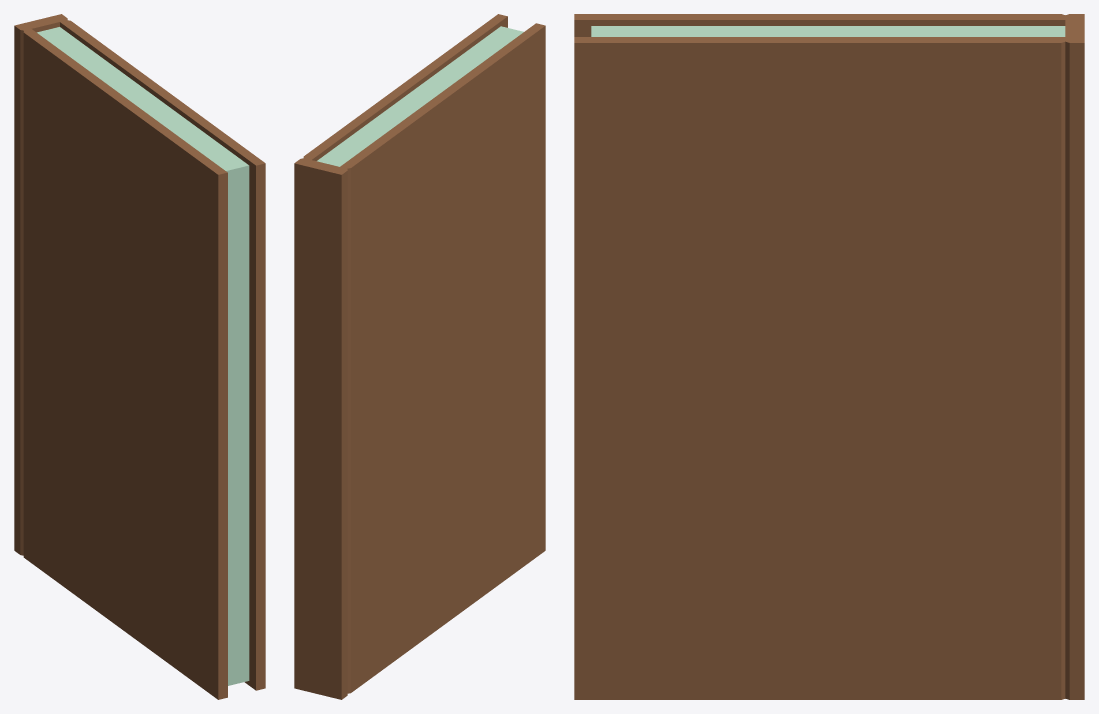
The model's file is book.fbx.
3 views of the same model, side by side, from view 1: azimuth 30°, elevation 25°; view 2: azimuth 150°, elevation 25°; view 3: azimuth 270°, elevation 25° (orthographic). The views are drawn at different scales.
Parts seen in each view (by area): view 1: Cube.054; view 2: Cube.054; view 3: Cube.054.
Boxes of the visible parts, x1,y1,x2,y2 form: Cube.054: (14,14,265,699); Cube.054: (294,14,545,699); Cube.054: (574,14,1084,699).
Size of the model in its own units: 1.87 by 19.76 by 13.92.
